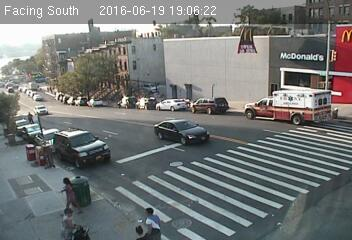neg: (129, 44, 149, 71), (219, 71, 238, 96), (157, 87, 175, 110), (98, 65, 115, 88), (72, 59, 88, 80), (201, 85, 215, 105)
pos: (49, 174, 79, 214), (138, 204, 163, 238), (57, 208, 80, 238), (23, 111, 34, 125)
